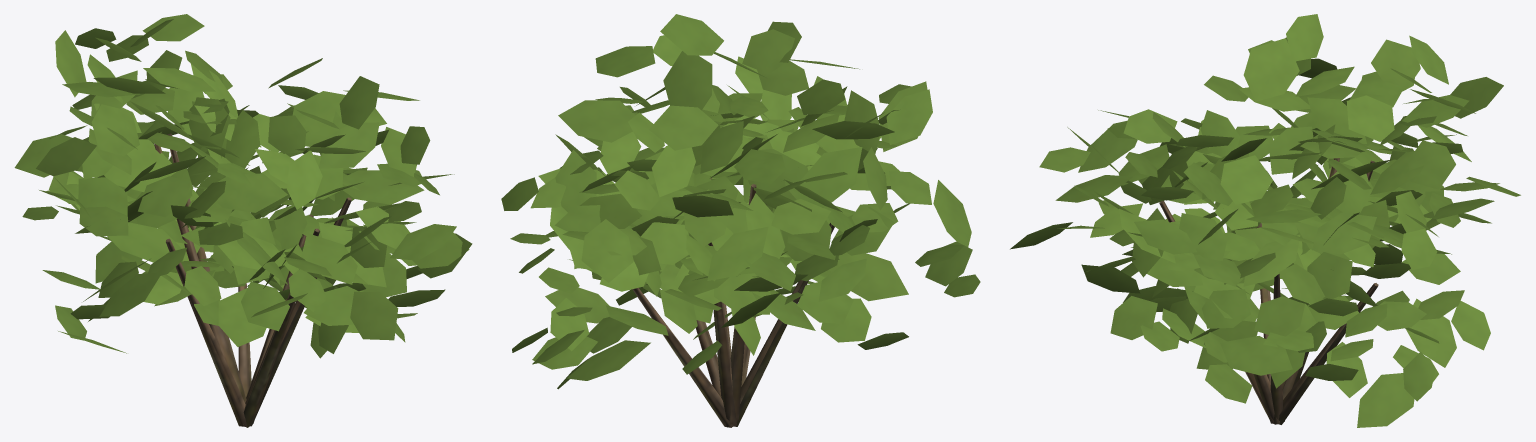
File: Bush_C.glb
The picture shows the model from 3 angles, left to right: view 1: azimuth 30°, elevation 25°; view 2: azimuth 150°, elevation 25°; view 3: azimuth 270°, elevation 25°; orthographic projection. The views are drawn at different scales.
Parts seen in each view (by area): view 1: Bush_C; view 2: Bush_C; view 3: Bush_C.
Boxes of the visible parts, bbox=[...] form: Bush_C: bbox=[14, 14, 472, 427]; Bush_C: bbox=[501, 14, 980, 427]; Bush_C: bbox=[1010, 14, 1520, 427].
Bounding box in the file's own units: 1.42 × 1.27 × 1.68.
Materials: 1 (1 with a texture image).
